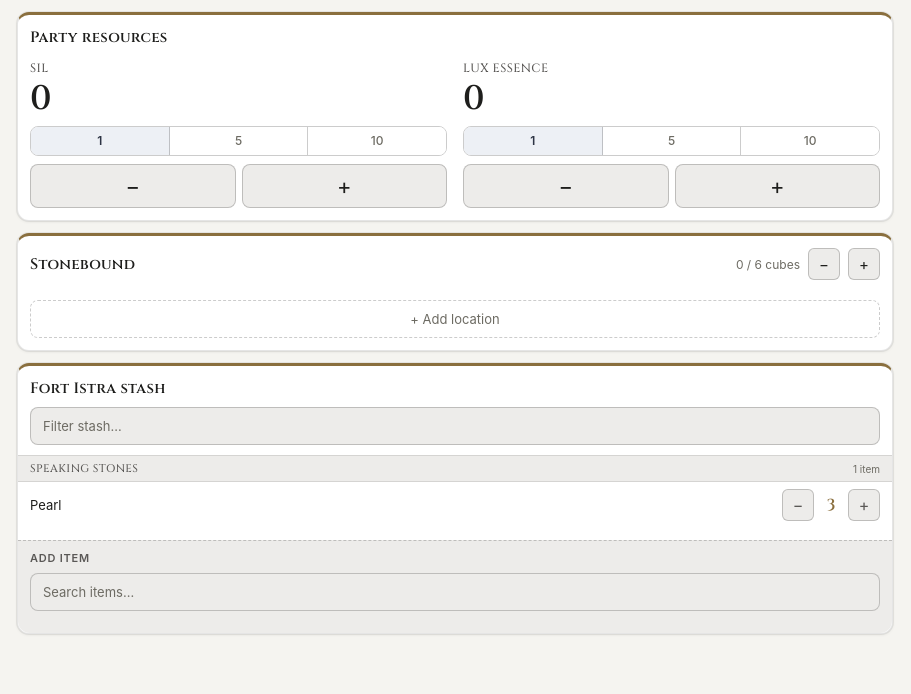
Test: stash add search — items already held › shows a held item with its count instead of rendering nothing
Step 1. Type "Pearl" into the field with class "stash-search" showing "Search items…" → point(455, 592), box [30, 573, 880, 611]
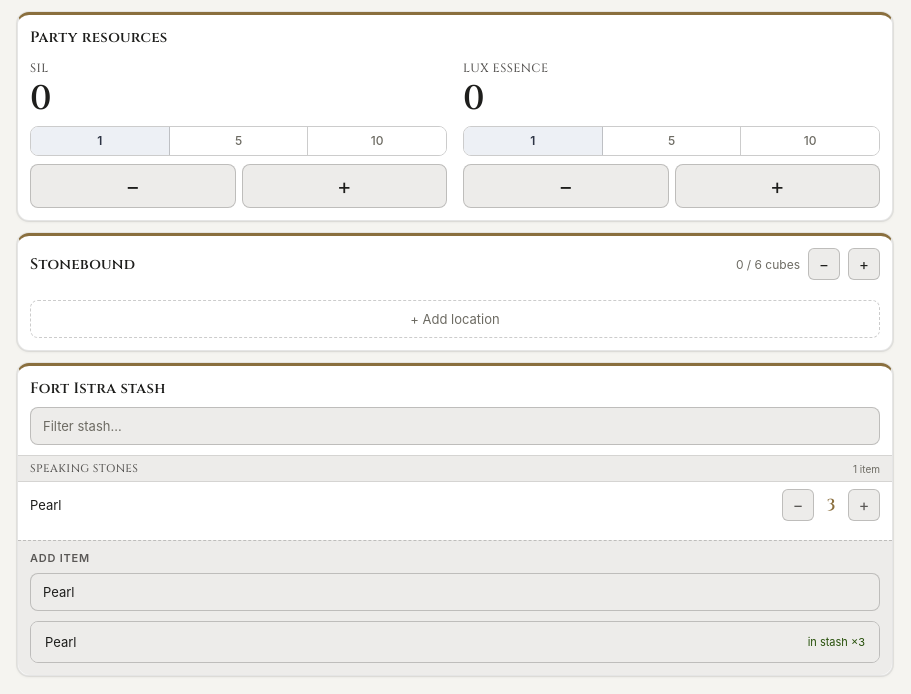
Check: the element with class "stash-add-results" is shown, box [30, 621, 880, 663]
Check: the button with class "stash-add-result--held" shows "Pearl", box [31, 622, 879, 662]
Check: the button with class "stash-add-result--held" shows "3", box [31, 622, 879, 662]
